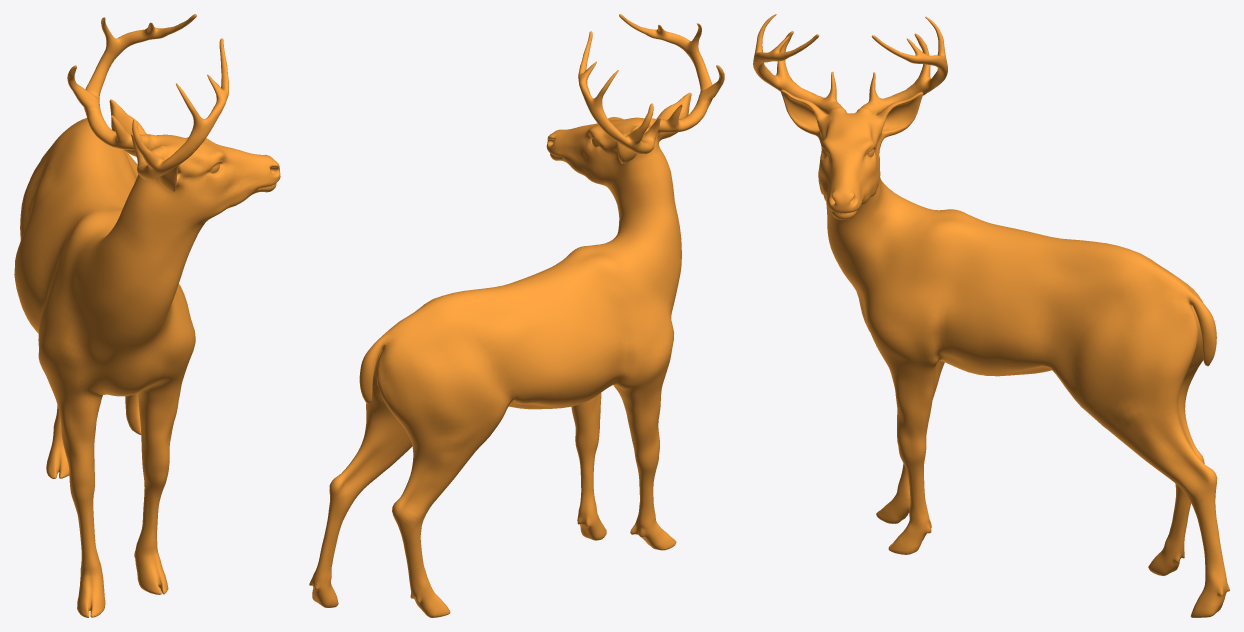
The model's file is Venado.fbx.
The picture shows the model from 3 angles, left to right: view 1: azimuth 30°, elevation 25°; view 2: azimuth 150°, elevation 25°; view 3: azimuth 270°, elevation 25°; orthographic projection. The views are drawn at different scales.
Parts seen in each view (by area): view 1: Deer; view 2: Deer; view 3: Deer.
Boxes of the visible parts, left/top/right/bottom form: Deer: left=14, top=14, right=280, bottom=617; Deer: left=309, top=14, right=724, bottom=617; Deer: left=753, top=14, right=1229, bottom=617.
Size of the model in its own units: 54.42 by 114 by 93.95.
